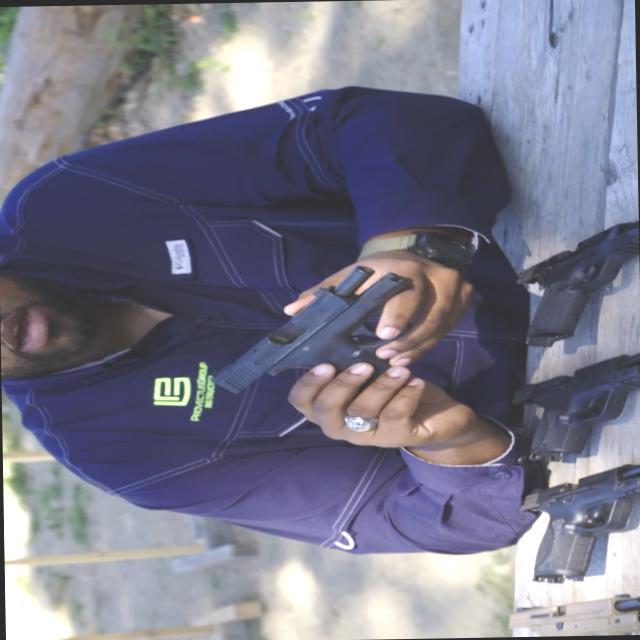handgun: (215, 273, 444, 407), (489, 190, 639, 360), (497, 330, 639, 481), (509, 438, 639, 590)
